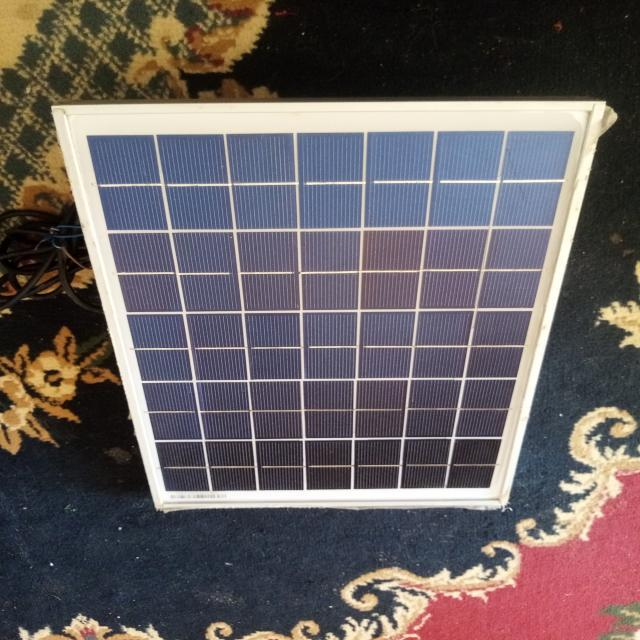no faulty: (55, 105, 603, 509)
